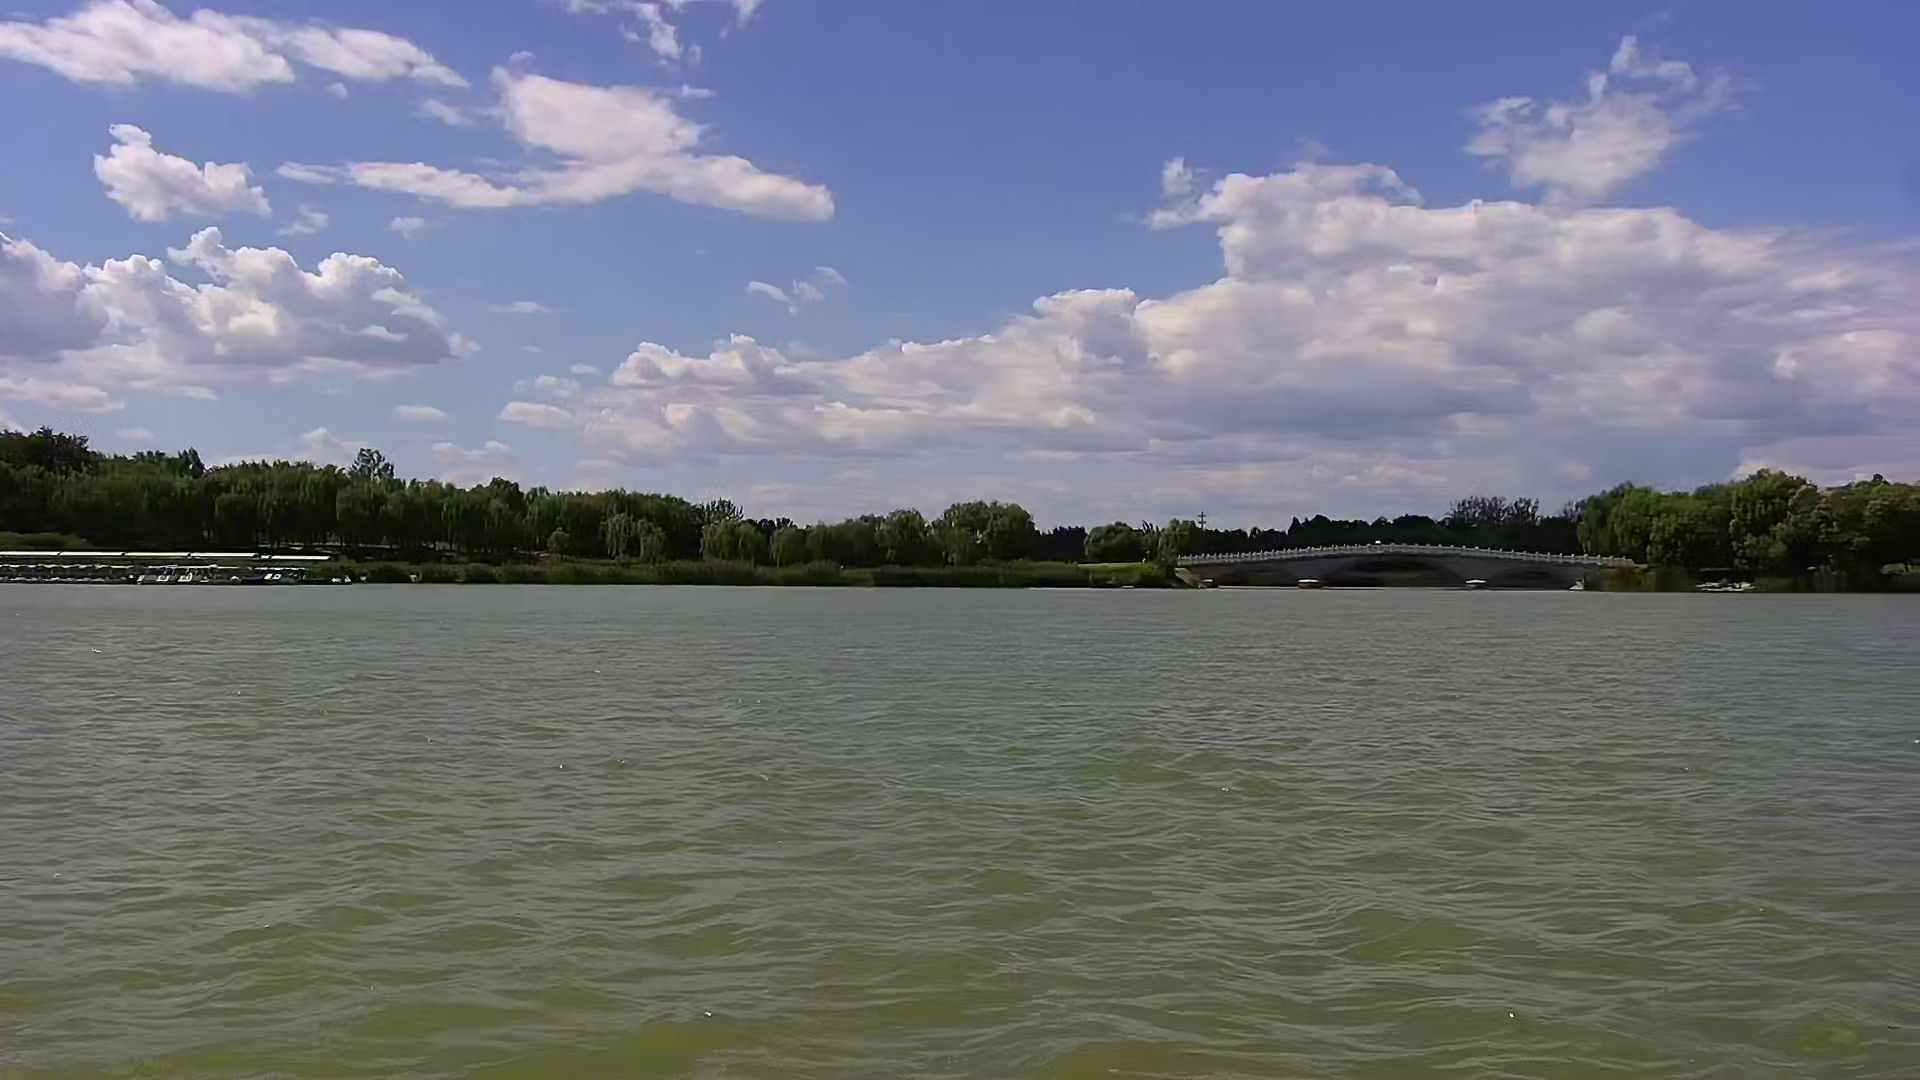bridge: (1167, 545, 1642, 593)
harbor: (1, 546, 338, 592)
